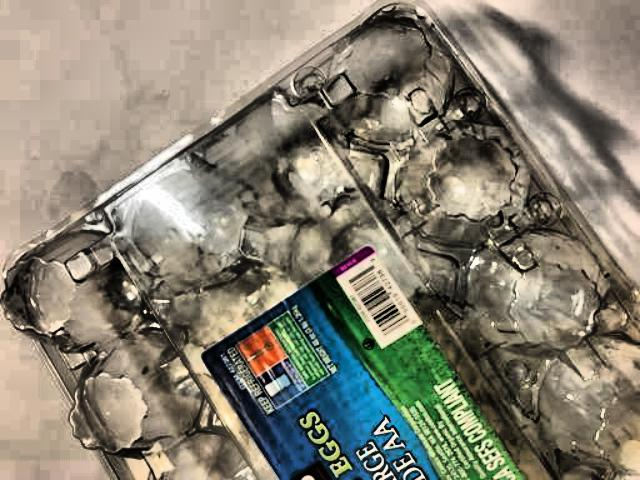Plastic: (0, 9, 640, 480)
